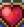heart: (1, 0, 24, 27)
